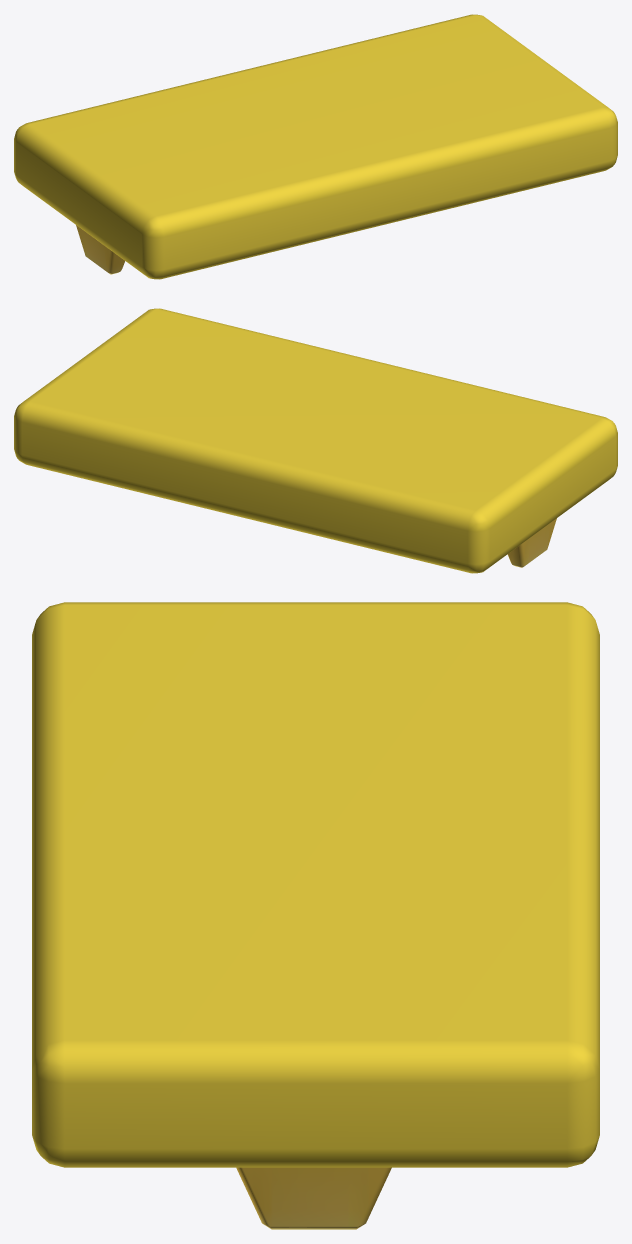
File: Tray.fbx
3 renders of one model, top to bottom at view 1: azimuth 30°, elevation 25°; view 2: azimuth 150°, elevation 25°; view 3: azimuth 270°, elevation 25°, orthographic. The views are drawn at different scales.
Parts seen in each view (by area): view 1: Tray; view 2: Tray; view 3: Tray.
Part boxes in pixels (box(x1,y1,x2,y2)): Tray: box(14, 14, 617, 279); Tray: box(14, 308, 617, 573); Tray: box(32, 602, 599, 1229).
Bounding box in the file's own units: 36.88 × 7.29 × 19.14.
